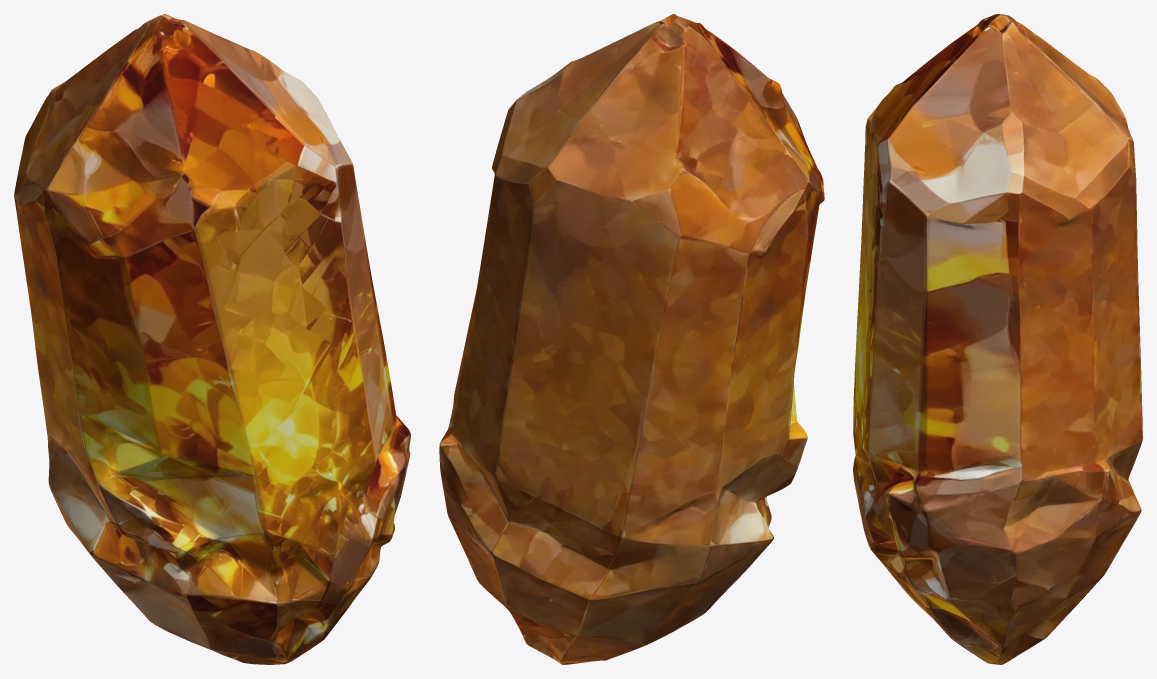
File: gas-crystal.glb
The picture shows the model from 3 angles, left to right: view 1: azimuth 30°, elevation 25°; view 2: azimuth 150°, elevation 25°; view 3: azimuth 270°, elevation 25°; orthographic projection. The views are drawn at different scales.
Visible parts, largest first — view 1: tripo_node_25b2ef78-efcb-453c-8975-a39a4ee6ec65; view 2: tripo_node_25b2ef78-efcb-453c-8975-a39a4ee6ec65; view 3: tripo_node_25b2ef78-efcb-453c-8975-a39a4ee6ec65.
Part boxes in pixels (left/top/right/bottom): tripo_node_25b2ef78-efcb-453c-8975-a39a4ee6ec65: left=14, top=14, right=410, bottom=664; tripo_node_25b2ef78-efcb-453c-8975-a39a4ee6ec65: left=439, top=14, right=824, bottom=664; tripo_node_25b2ef78-efcb-453c-8975-a39a4ee6ec65: left=853, top=14, right=1142, bottom=664.
Bounding box in the file's own units: 0.5144 × 0.9798 × 0.4305.
Materials: 1 (1 with a texture image).
